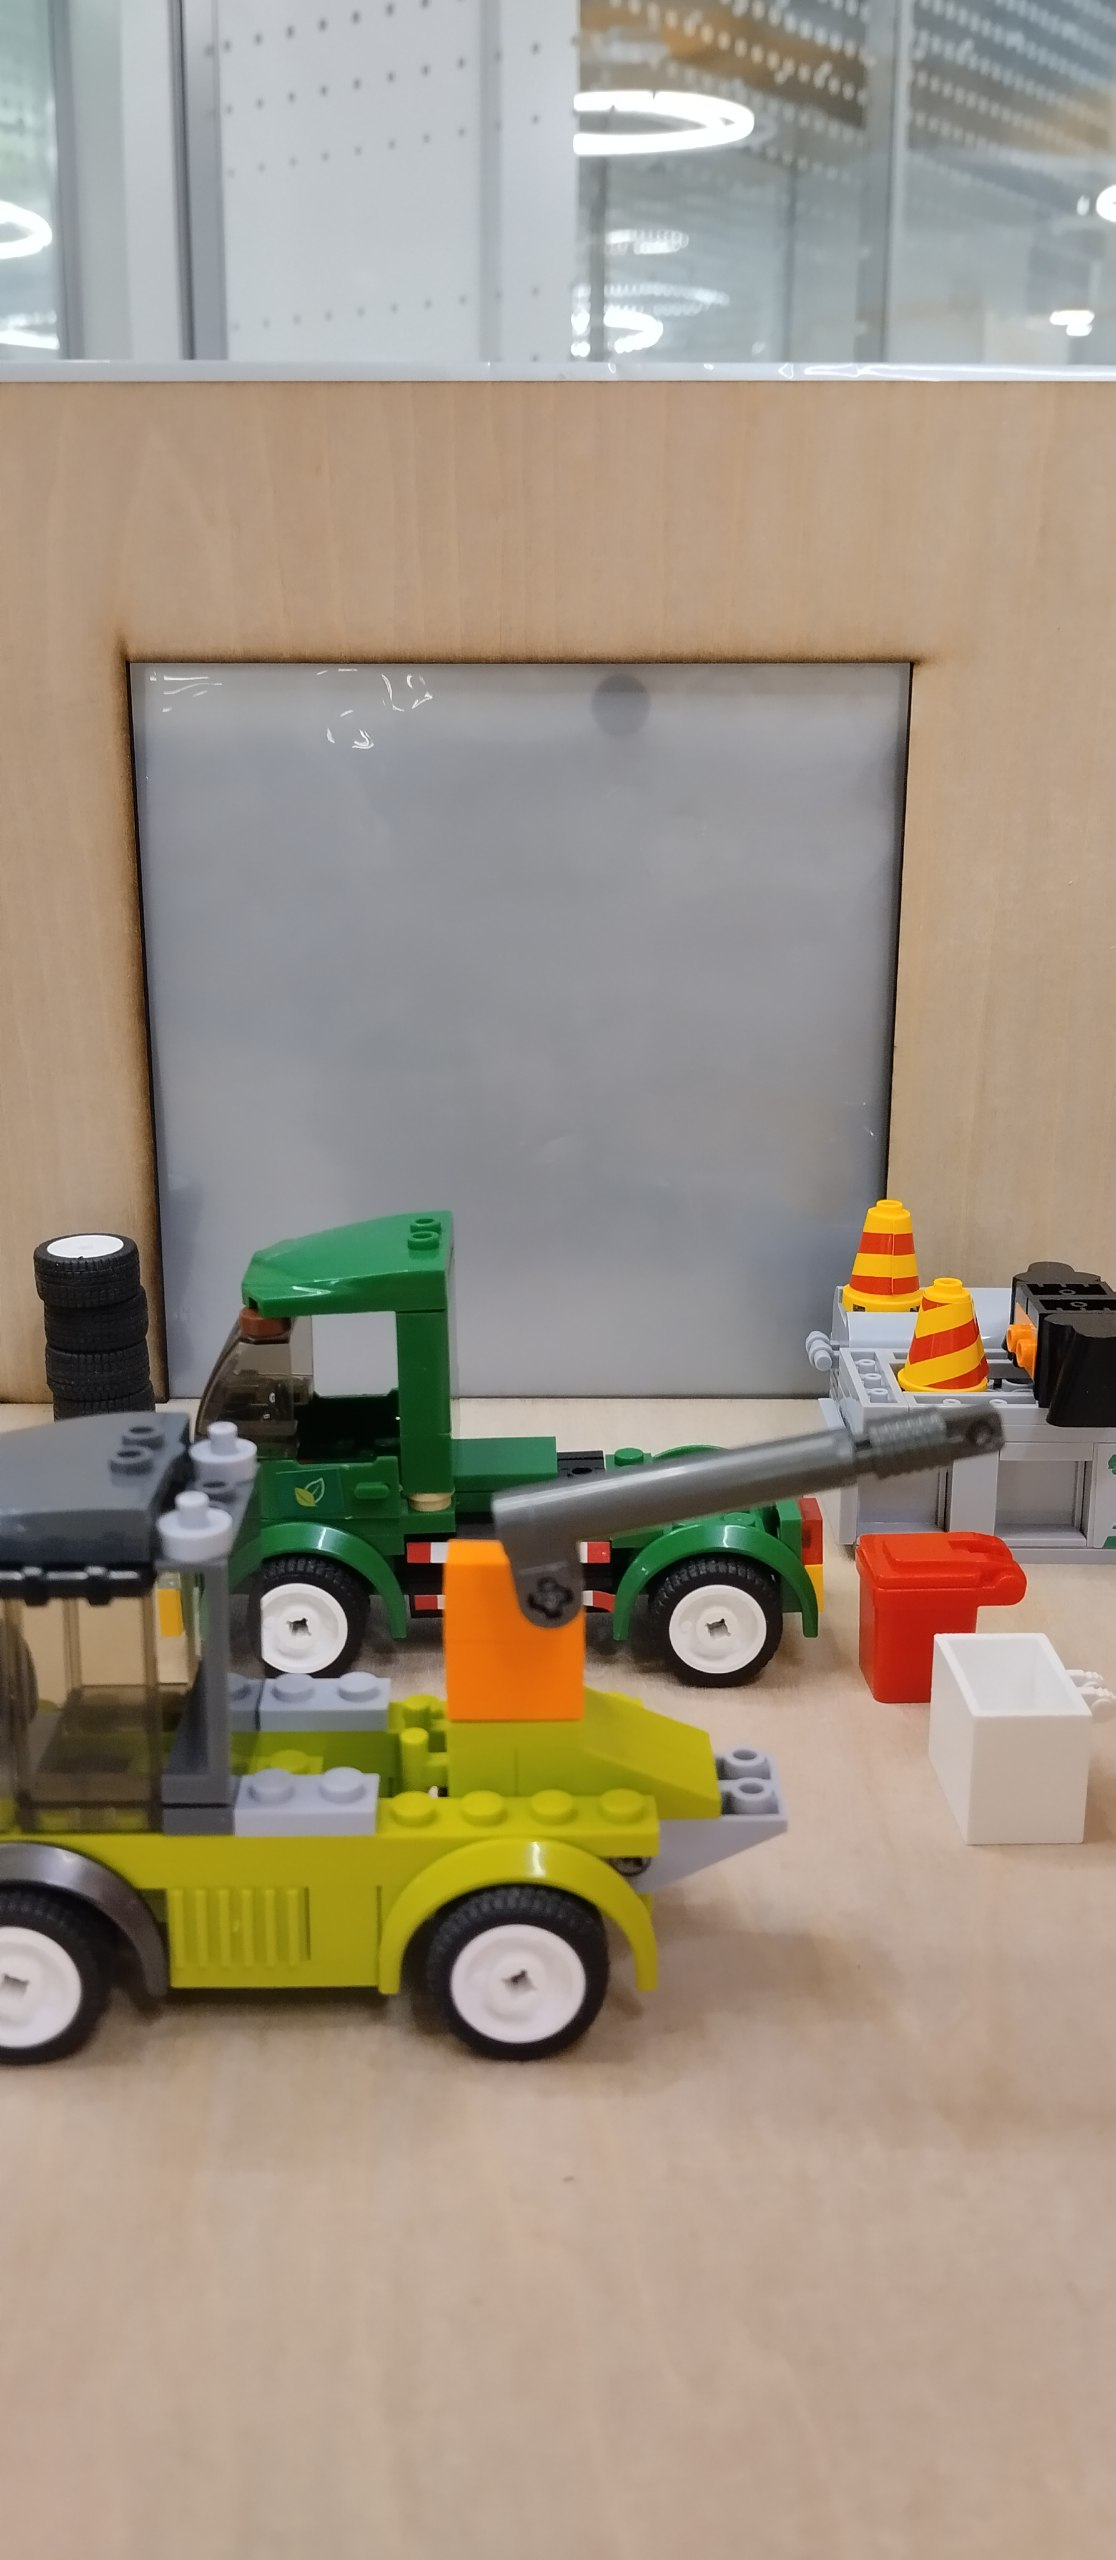Cone: (902, 1275, 994, 1401), (852, 1203, 920, 1313)
Crane: (8, 1402, 1003, 2018)
Object Black: (1003, 1260, 1116, 1427)
Object Red: (853, 1530, 1021, 1704)
Object white: (932, 1628, 1116, 1847)
Truck: (196, 1211, 826, 1687)
